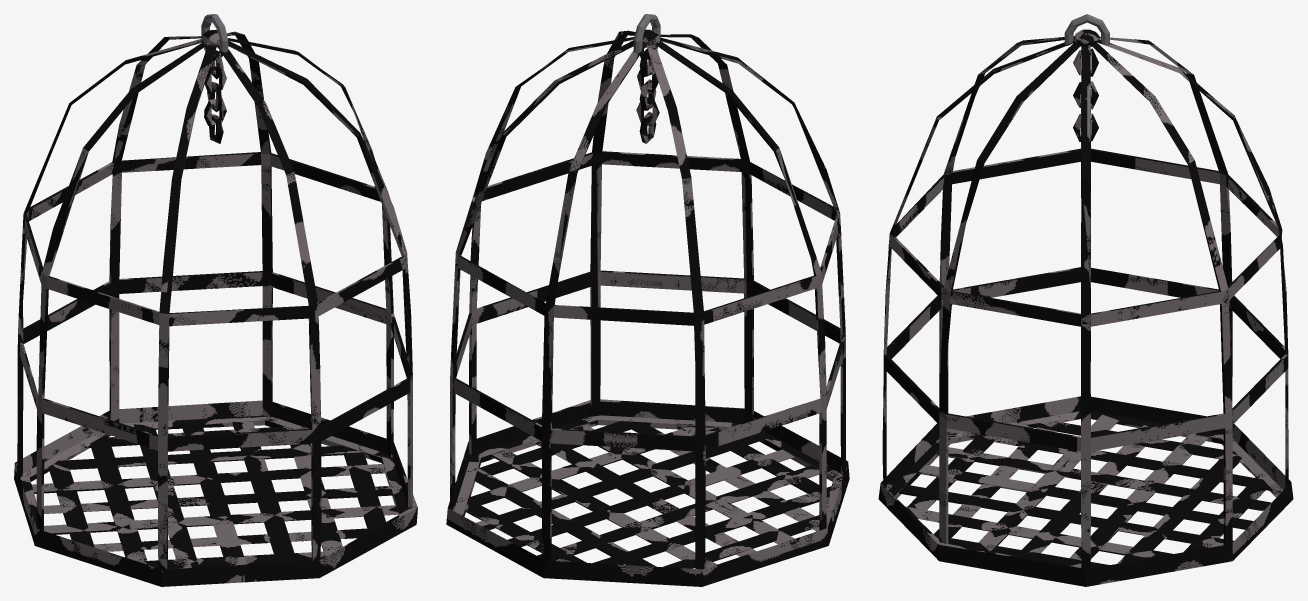
Rendered from CellModel.fbx.
3 views of the same model, side by side, from view 1: azimuth 30°, elevation 25°; view 2: azimuth 150°, elevation 25°; view 3: azimuth 270°, elevation 25° (orthographic).
Visible parts, largest first — view 1: Plane.022; view 2: Plane.022; view 3: Plane.022.
Boxes of the visible parts, x1,y1,x2,y2 form: Plane.022: (14, 14, 417, 586); Plane.022: (446, 14, 849, 586); Plane.022: (878, 14, 1293, 586).
Size of the model in its own units: 36.11 by 46.77 by 36.11.
